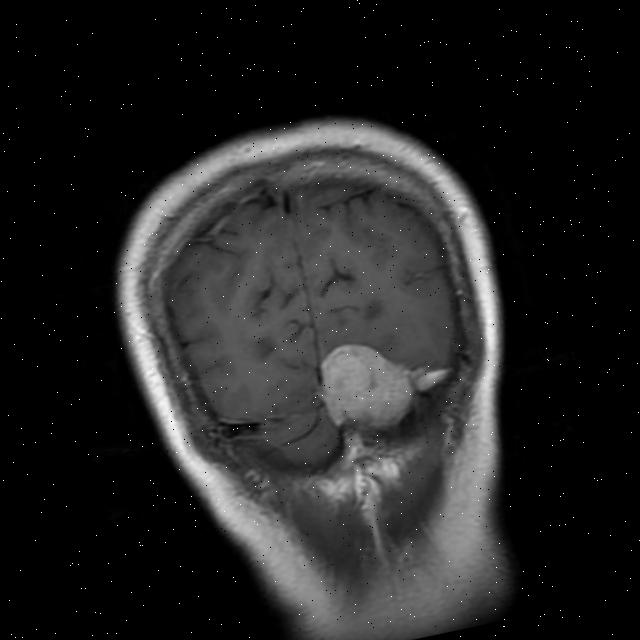Meningioma: (309, 326, 423, 440)
